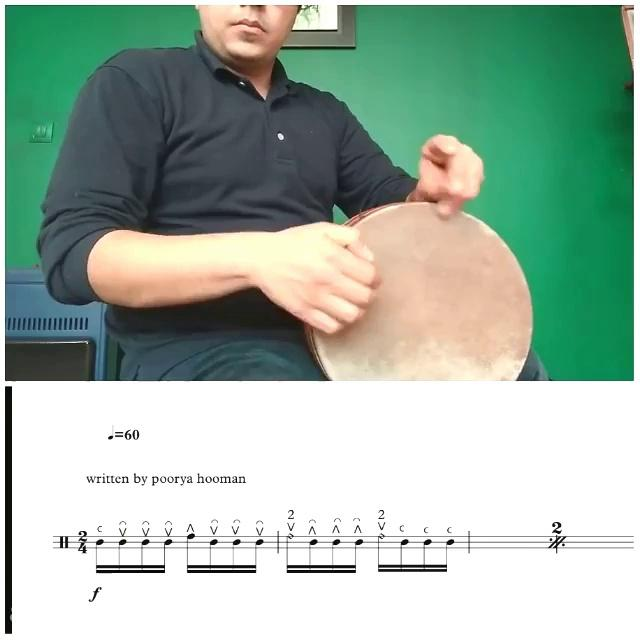Tombak: (312, 200, 532, 376)
